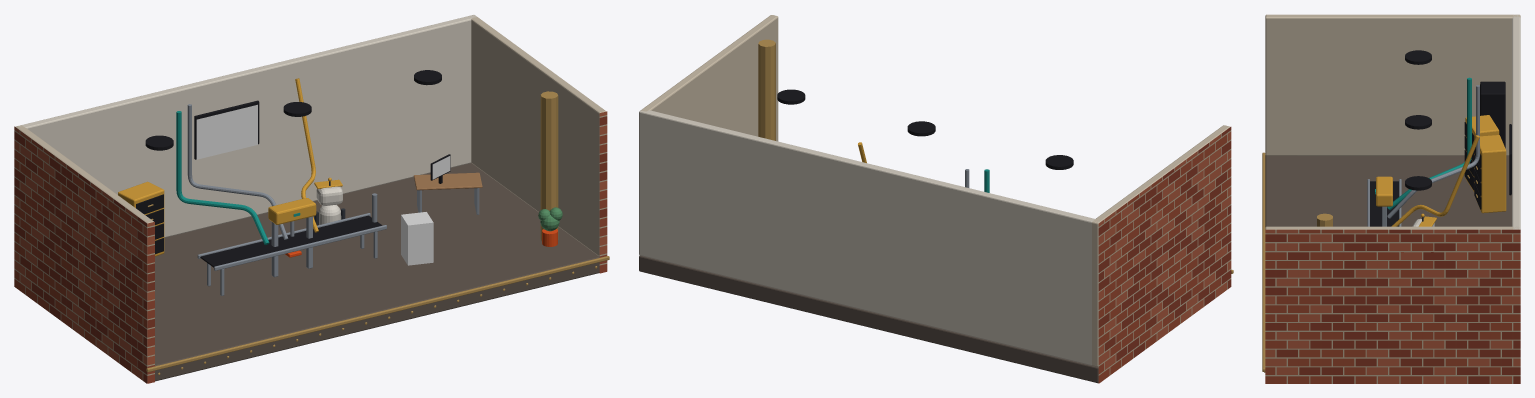
Rendered from crm.glb.
3 views of the same model, side by side, from view 1: azimuth 30°, elevation 25°; view 2: azimuth 150°, elevation 25°; view 3: azimuth 270°, elevation 25° (orthographic). The views are drawn at different scales.
Visible parts, largest first — view 1: static, screens, hit__deal, dyn__inspector__head; view 2: static; view 3: static.
Boxes of the visible parts, x1,y1,x2,y2 form: static: (14,15,609,383); screens: (196,104,450,179); hit__deal: (401,212,433,265); dyn__inspector__head: (314,177,342,205); static: (639,15,1233,383); static: (1262,14,1520,383).
Bounding box in the file's own units: 12.06 × 4.03 × 6.07.
